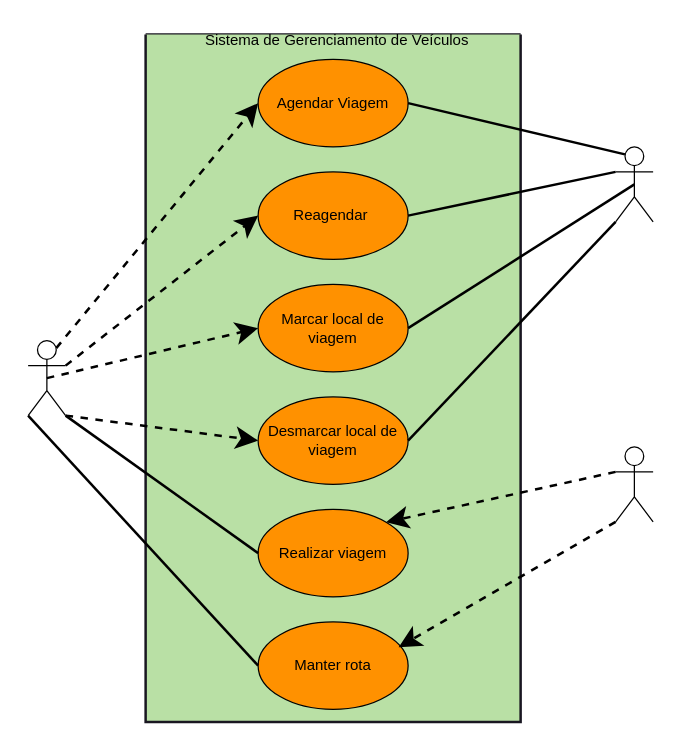
The diagram is 690 pixels wide and 744 high, and some of its shapes have lost their labels. The centre of each missing label's shape, as x and y in pixels:
"Aplicativo" belongs at (633,184).
"Carro" belongs at (633,484).
"Usuário" belongs at (46,377).
